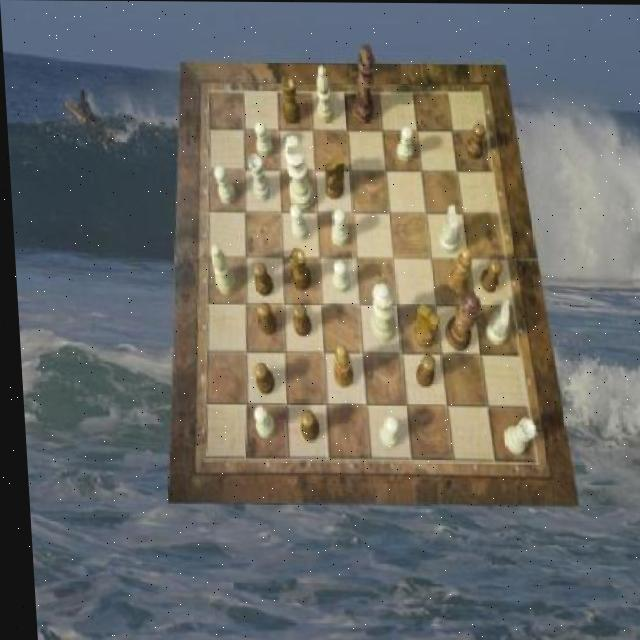bishop: (442, 249, 469, 296), (327, 343, 349, 386)
black-bishop: (348, 44, 378, 124)
black-king: (409, 304, 438, 348), (321, 156, 343, 200)
black-knight: (475, 258, 499, 293), (463, 121, 484, 159), (410, 353, 432, 387), (293, 409, 314, 442), (249, 262, 269, 296), (289, 303, 308, 337), (253, 301, 272, 335), (250, 363, 270, 395)
black-pawn: (439, 290, 479, 352)
black-queen: (286, 248, 309, 290), (280, 75, 299, 123)
black-rook: (207, 244, 232, 295), (313, 65, 333, 123)
white-bishop: (281, 134, 311, 209)
white-king: (480, 298, 507, 344), (434, 204, 456, 253)
white-knight: (211, 166, 232, 204), (247, 404, 270, 438), (286, 203, 305, 241), (373, 416, 395, 448), (252, 121, 270, 158), (393, 127, 412, 162), (327, 210, 345, 246), (328, 259, 347, 293)
white-pawn: (364, 282, 393, 342)
white-queen: (498, 417, 532, 454), (246, 155, 268, 202)
